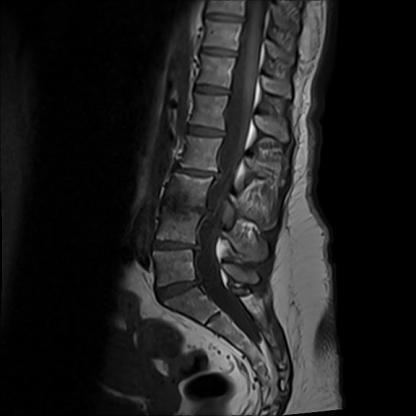Degenerative Disc Diseaserotation: (164, 199, 209, 217), (159, 280, 199, 300), (170, 166, 219, 182)
Disc Herniationrotation: (169, 164, 218, 182), (163, 200, 208, 218), (156, 237, 194, 254)
